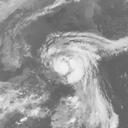cyclone: (40, 31, 100, 87)
